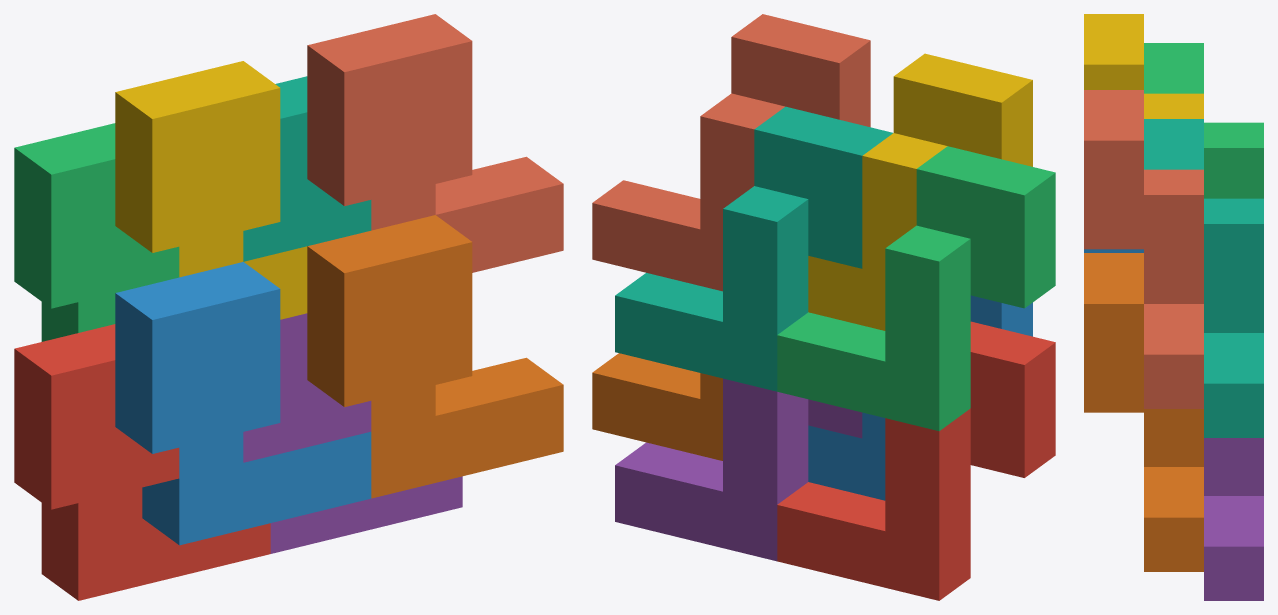
Rendered from tiling.obj.
3 views of the same model, side by side, from view 1: azimuth 30°, elevation 25°; view 2: azimuth 150°, elevation 25°; view 3: azimuth 270°, elevation 25° (orthographic). The views are drawn at different scales.
Visible parts, largest first — view 1: copy_1_domain_6, copy_1_domain_2, copy_1_domain_8, copy_1_domain_1, copy_1_domain_4, copy_1_domain_3, copy_1_domain_5, copy_1_domain_7; view 2: copy_1_domain_3, copy_1_domain_7, copy_1_domain_1, copy_1_domain_8, copy_1_domain_5, copy_1_domain_4, copy_1_domain_6, copy_1_domain_2; view 3: copy_1_domain_8, copy_1_domain_6, copy_1_domain_7, copy_1_domain_5, copy_1_domain_3, copy_1_domain_4.
Boxes of the visible parts, x1,y1,x2,y2 form: copy_1_domain_6: (307,215,563,498); copy_1_domain_2: (115,262,371,545); copy_1_domain_8: (307,14,563,272); copy_1_domain_1: (14,324,270,600); copy_1_domain_4: (115,61,307,319); copy_1_domain_3: (14,123,179,341); copy_1_domain_5: (243,313,462,553); copy_1_domain_7: (243,76,371,261); copy_1_domain_3: (777,146,1055,431); copy_1_domain_7: (615,106,892,391); copy_1_domain_1: (777,321,1055,600); copy_1_domain_8: (592,14,870,291); copy_1_domain_5: (615,378,862,561); copy_1_domain_4: (808,53,1032,330); copy_1_domain_6: (592,353,722,460); copy_1_domain_2: (808,295,1032,500); copy_1_domain_8: (1084,90,1203,408); copy_1_domain_6: (1084,253,1203,571); copy_1_domain_7: (1144,119,1263,437); copy_1_domain_5: (1204,438,1263,600); copy_1_domain_3: (1144,43,1263,198); copy_1_domain_4: (1084,14,1203,118).
Size of the model in its own units: 8 by 8 by 3.
